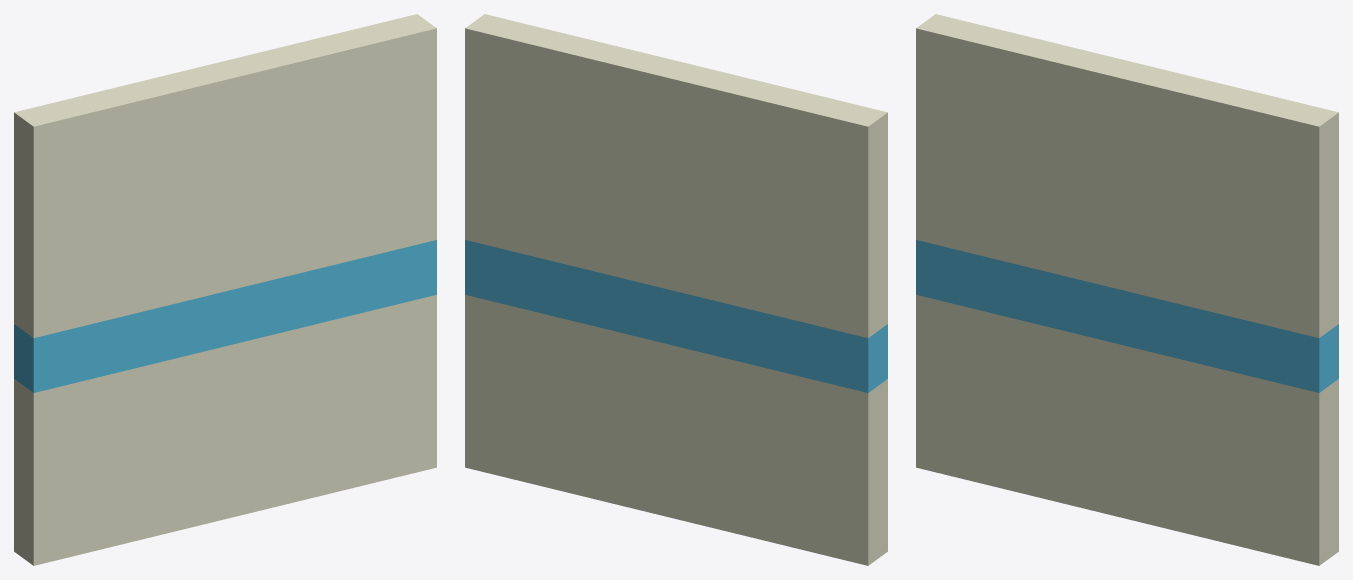
File: wall-hospital.fbx
The picture shows the model from 3 angles, left to right: view 1: azimuth 30°, elevation 25°; view 2: azimuth 150°, elevation 25°; view 3: azimuth 330°, elevation 25°; orthographic projection.
Visible parts, largest first — view 1: wall-hospital; view 2: wall-hospital; view 3: wall-hospital.
Part boxes in pixels (x1,y1,x2,y2): wall-hospital: (14,14,436,565); wall-hospital: (465,14,887,565); wall-hospital: (916,14,1338,565).
Size of the model in its own units: 545 by 567 by 46.
